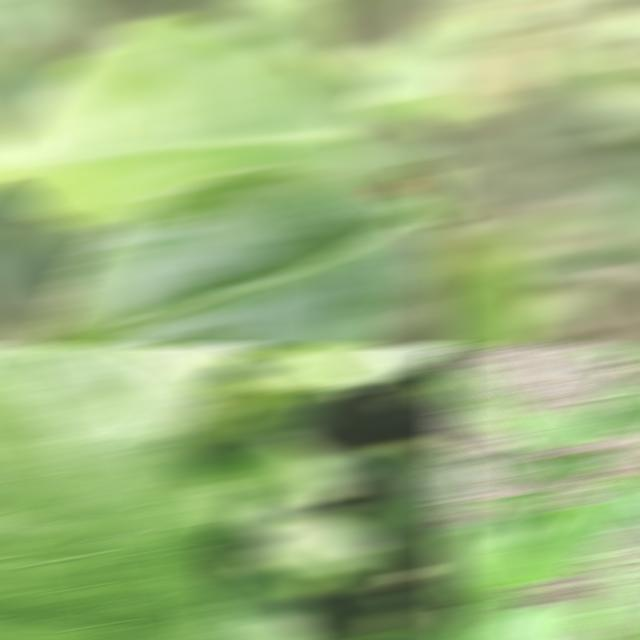Leaf: (0, 18, 359, 226), (0, 346, 236, 638), (42, 167, 429, 344), (60, 346, 216, 439), (356, 17, 458, 134), (191, 441, 349, 501), (506, 500, 617, 581), (228, 2, 343, 68), (0, 223, 74, 324), (250, 518, 367, 573), (389, 453, 458, 543), (249, 346, 373, 395), (440, 581, 527, 638), (593, 146, 640, 249), (341, 346, 453, 385), (463, 519, 523, 588), (480, 605, 598, 638), (438, 528, 492, 591), (511, 410, 598, 447), (590, 473, 640, 537), (591, 73, 640, 138), (608, 544, 640, 638), (135, 346, 238, 375), (440, 368, 496, 414), (577, 404, 640, 442), (474, 498, 556, 524), (487, 512, 543, 549), (480, 397, 534, 433), (0, 185, 46, 224), (464, 397, 513, 429), (560, 451, 622, 475), (438, 565, 474, 596), (604, 377, 640, 407), (523, 458, 579, 476), (518, 493, 562, 508)
